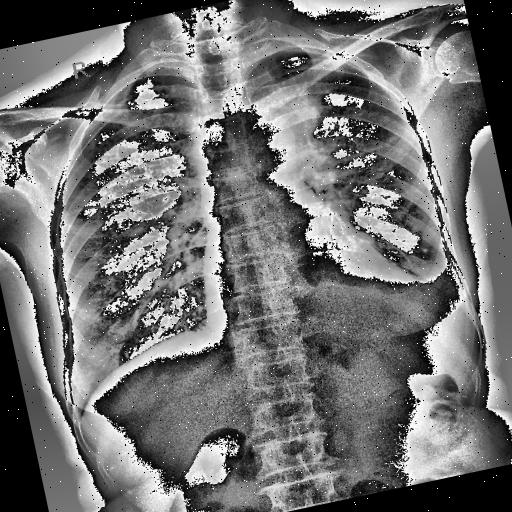10- Pleural effusion: (310, 254, 462, 318), (400, 233, 472, 314), (407, 252, 463, 306)
4- Consolidation: (243, 73, 340, 178)
7- Lung Opacity: (246, 76, 326, 162), (250, 83, 324, 153)
8- Nodule-Mass: (243, 73, 340, 178), (246, 76, 326, 162), (250, 83, 324, 153)
